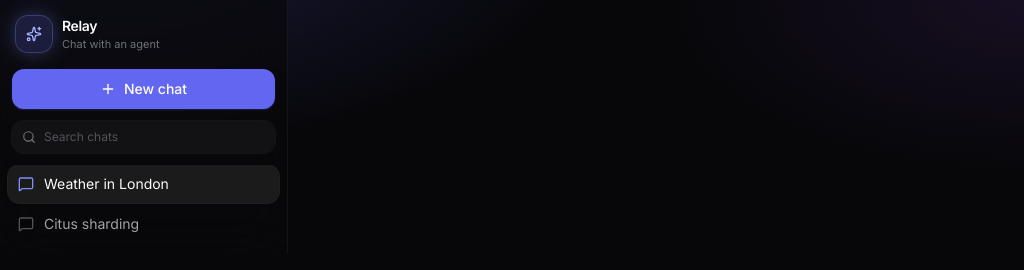
Sidebar › should filter threads by search query
The image size is (1024, 270).
In the search field labelled "Search chats": (154, 136) [44, 128, 265, 144], type "Citus"
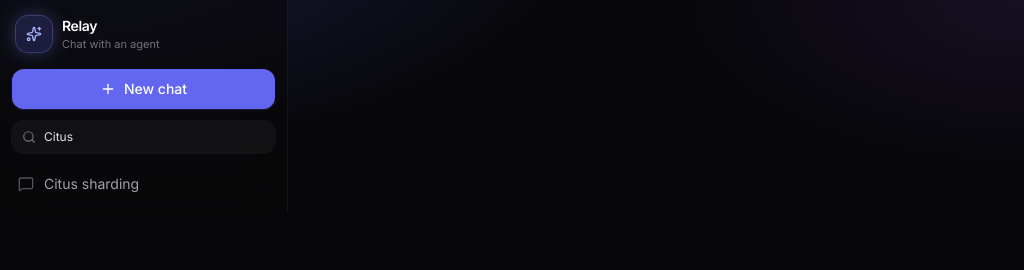
Expected: the text "Citus sharding" is shown, [44, 174, 139, 192]
Now the button "Weather in London" is gone
